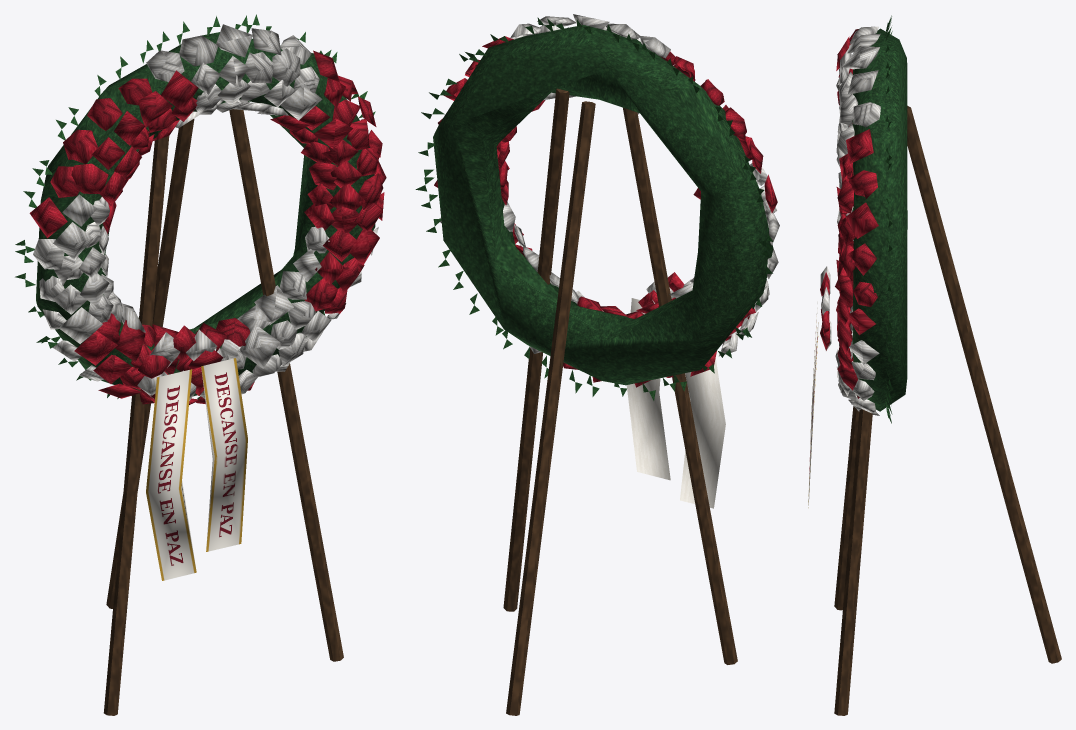
File: corona_banda_lod.obj
3 renders of one model, left to right at view 1: azimuth 30°, elevation 25°; view 2: azimuth 150°, elevation 25°; view 3: azimuth 270°, elevation 25°, orthographic. The views are drawn at different scales.
Parts seen in each view (by area): view 1: Flores_Petalo_Rojo, Flores_Petalo_Blanco, Base, Cylinder, Liston, Cylinder.001, Liston.001, Cylinder.002, Flores_Hoja_Verde_Oscuro; view 2: Base, Cylinder.002, Cylinder, Cylinder.001, Flores_Petalo_Rojo, Flores_Petalo_Blanco, Liston, Flores_Hoja_Verde_Oscuro, Liston.001; view 3: Base, Cylinder.002, Flores_Petalo_Rojo, Flores_Petalo_Blanco, Cylinder.001, Cylinder, Flores_Hoja_Verde_Oscuro.
Part boxes in pixels (x1,y1,x2,y2): Flores_Petalo_Rojo: (29, 50, 386, 404); Flores_Petalo_Blanco: (33, 24, 378, 400); Base: (36, 32, 375, 396); Cylinder: (103, 136, 169, 715); Liston: (146, 369, 196, 580); Cylinder.001: (229, 109, 343, 661); Liston.001: (201, 358, 247, 551); Cylinder.002: (106, 119, 194, 608); Flores_Hoja_Verde_Oscuro: (15, 14, 375, 399); Base: (433, 25, 773, 385); Cylinder.002: (506, 101, 595, 715); Cylinder: (623, 107, 737, 664); Cylinder.001: (503, 88, 569, 611); Flores_Petalo_Rojo: (434, 36, 777, 387); Flores_Petalo_Blanco: (440, 14, 779, 356); Liston: (680, 358, 725, 508); Flores_Hoja_Verde_Oscuro: (415, 17, 773, 400); Liston.001: (626, 298, 670, 480); Base: (852, 28, 907, 411); Cylinder.002: (907, 105, 1061, 663); Flores_Petalo_Rojo: (820, 29, 878, 398); Flores_Petalo_Blanco: (820, 26, 880, 415); Cylinder.001: (834, 409, 872, 715); Cylinder: (834, 395, 859, 610); Flores_Hoja_Verde_Oscuro: (885, 15, 892, 423).
Bounding box in the file's own units: 0.8438 × 1.43 × 0.5216.
Materials: 7 (7 with a texture image).
